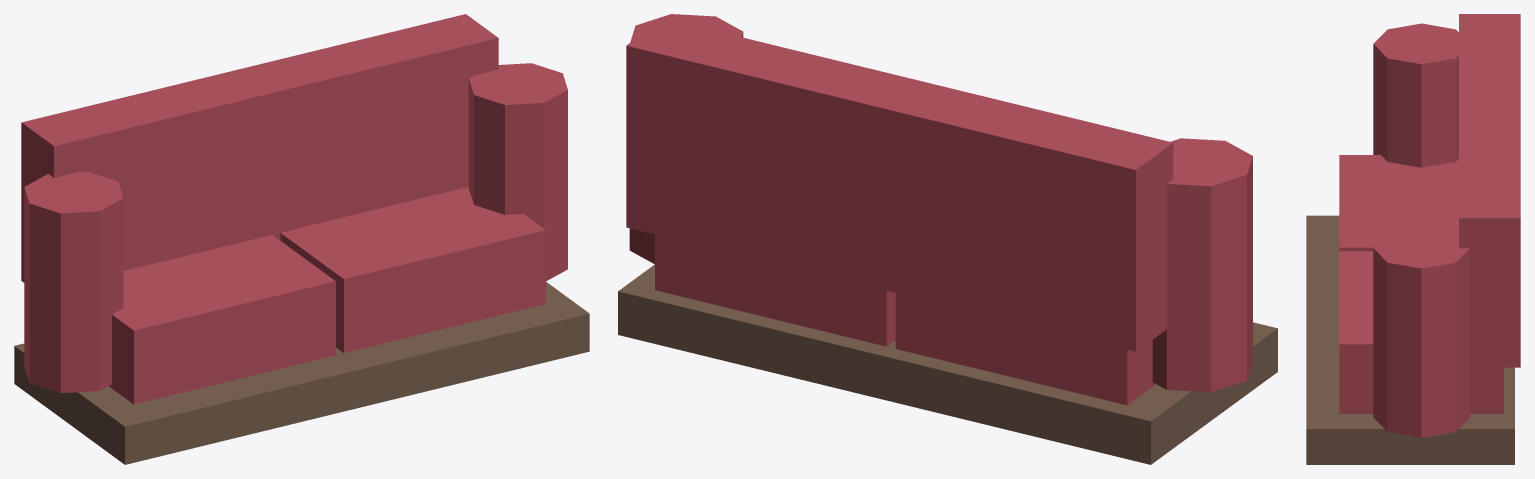
The model's file is haunted_sofa_red.glb.
3 views of the same model, side by side, from view 1: azimuth 30°, elevation 25°; view 2: azimuth 150°, elevation 25°; view 3: azimuth 270°, elevation 25° (orthographic). The views are drawn at different scales.
Visible parts, largest first — view 1: Haunted_Sofa_Red; view 2: Haunted_Sofa_Red; view 3: Haunted_Sofa_Red.
Part boxes in pixels (x1=…): Haunted_Sofa_Red: x1=14, y1=14, x2=589, y2=464; Haunted_Sofa_Red: x1=618, y1=14, x2=1277, y2=464; Haunted_Sofa_Red: x1=1306, y1=14, x2=1520, y2=464.
Size of the model in its own units: 2.64 by 1.23 by 0.975.
